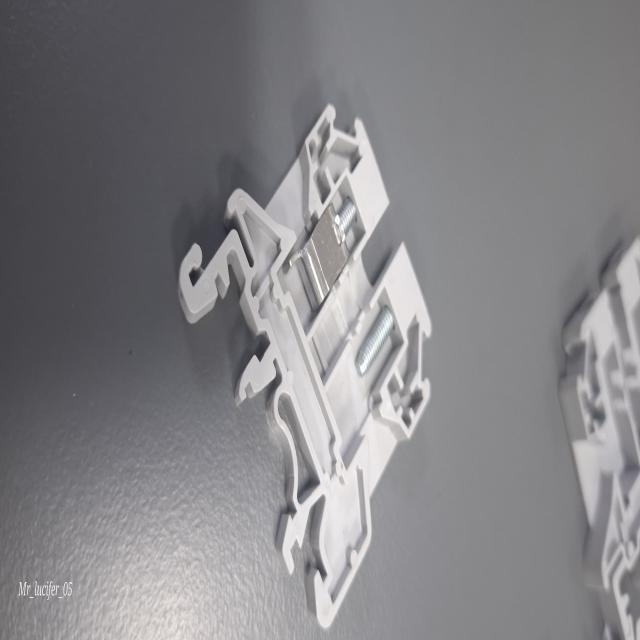Reject: (177, 89, 436, 637)
